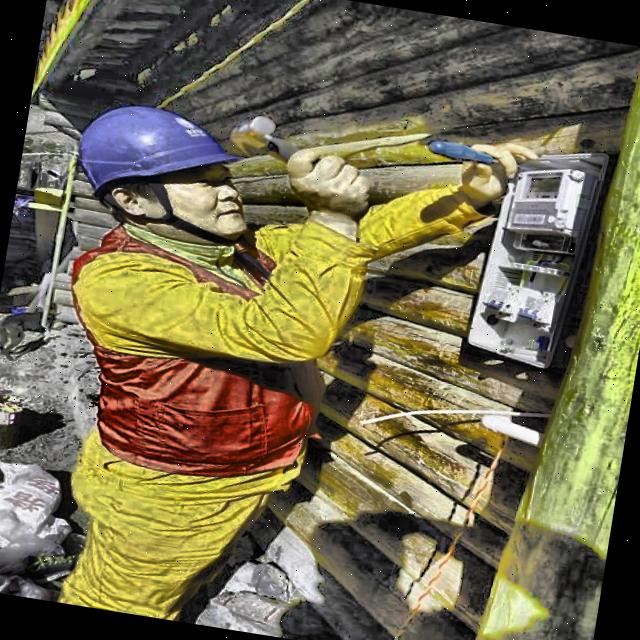helmet: (44, 77, 262, 264)
